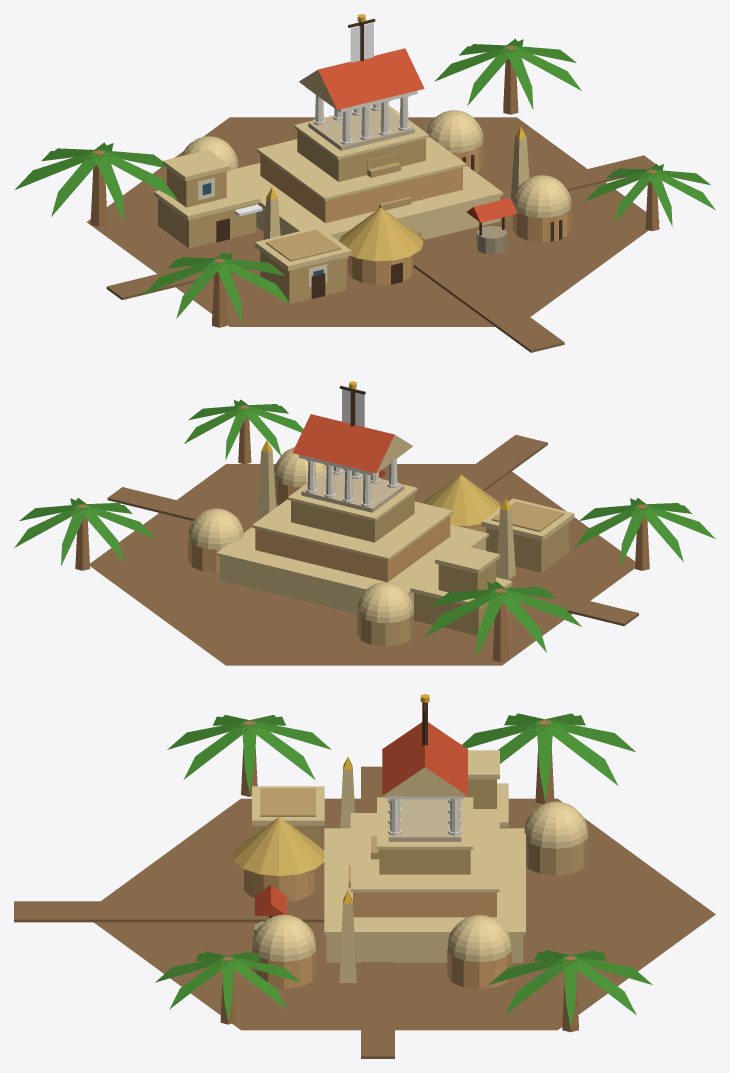
File: capital_0_2.fbx
3 renders of one model, top to bottom at view 1: azimuth 30°, elevation 25°; view 2: azimuth 150°, elevation 25°; view 3: azimuth 270°, elevation 25°, orthographic. The views are drawn at different scales.
Visible parts, largest first — view 1: capital_0_2; view 2: capital_0_2; view 3: capital_0_2.
Part boxes in pixels (left/top/right/bottom): capital_0_2: left=15, top=14, right=715, bottom=352; capital_0_2: left=14, top=381, right=715, bottom=665; capital_0_2: left=14, top=694, right=715, bottom=1058.
Bounding box in the file's own units: 238 × 79.83 × 233.
